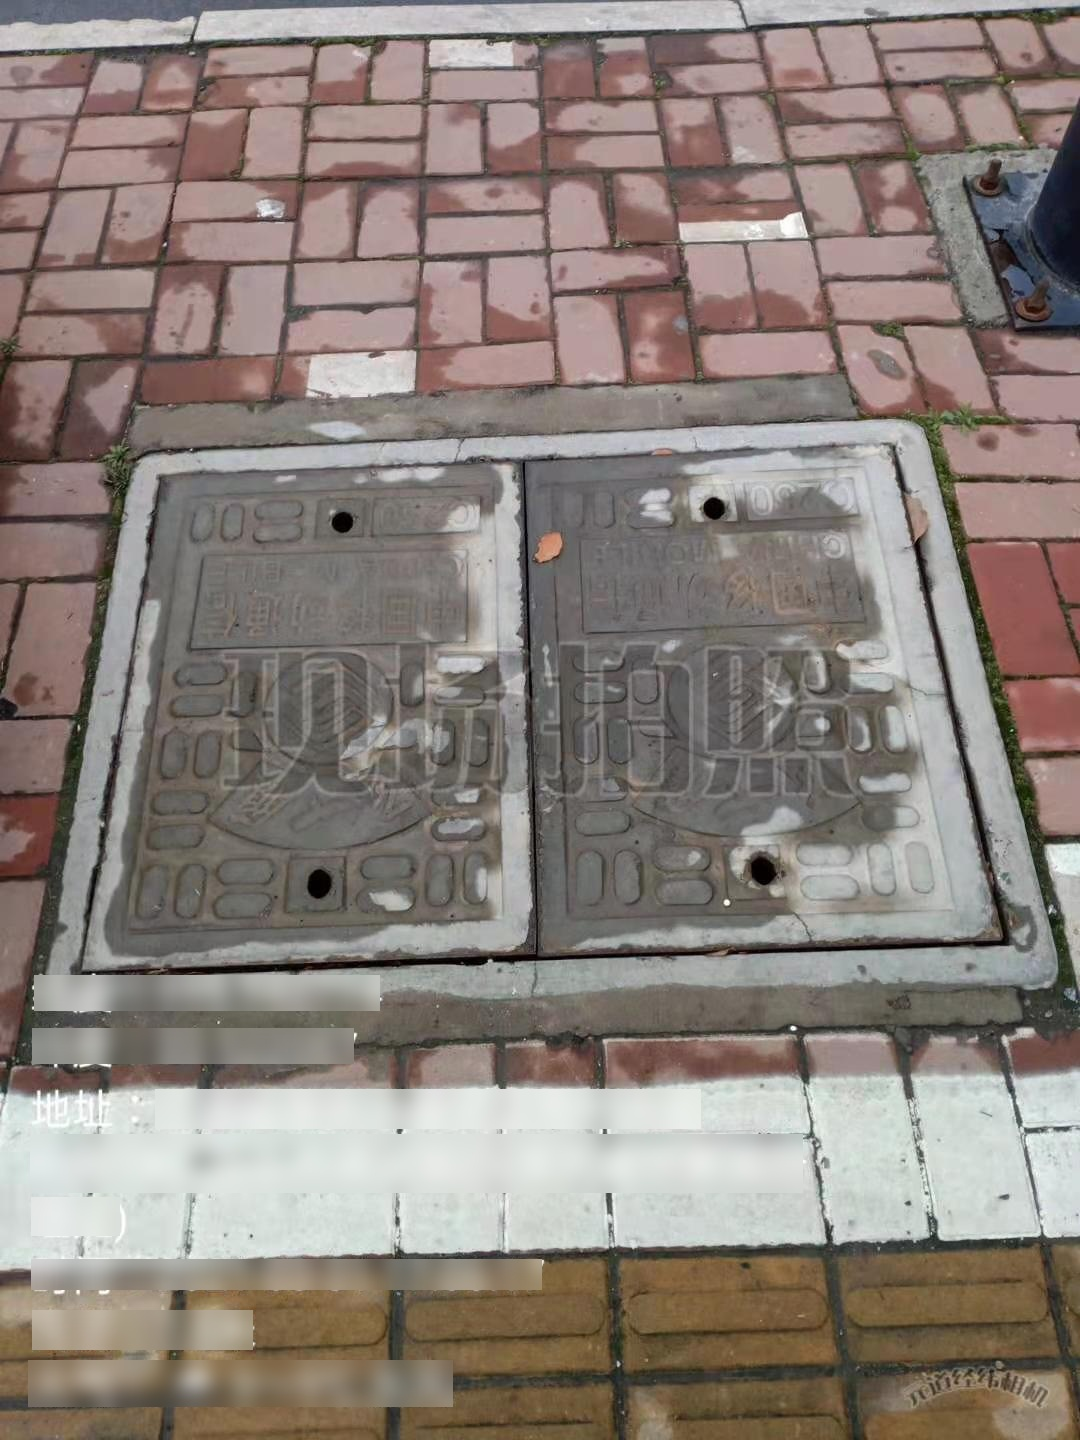good: (40, 418, 1058, 993)
